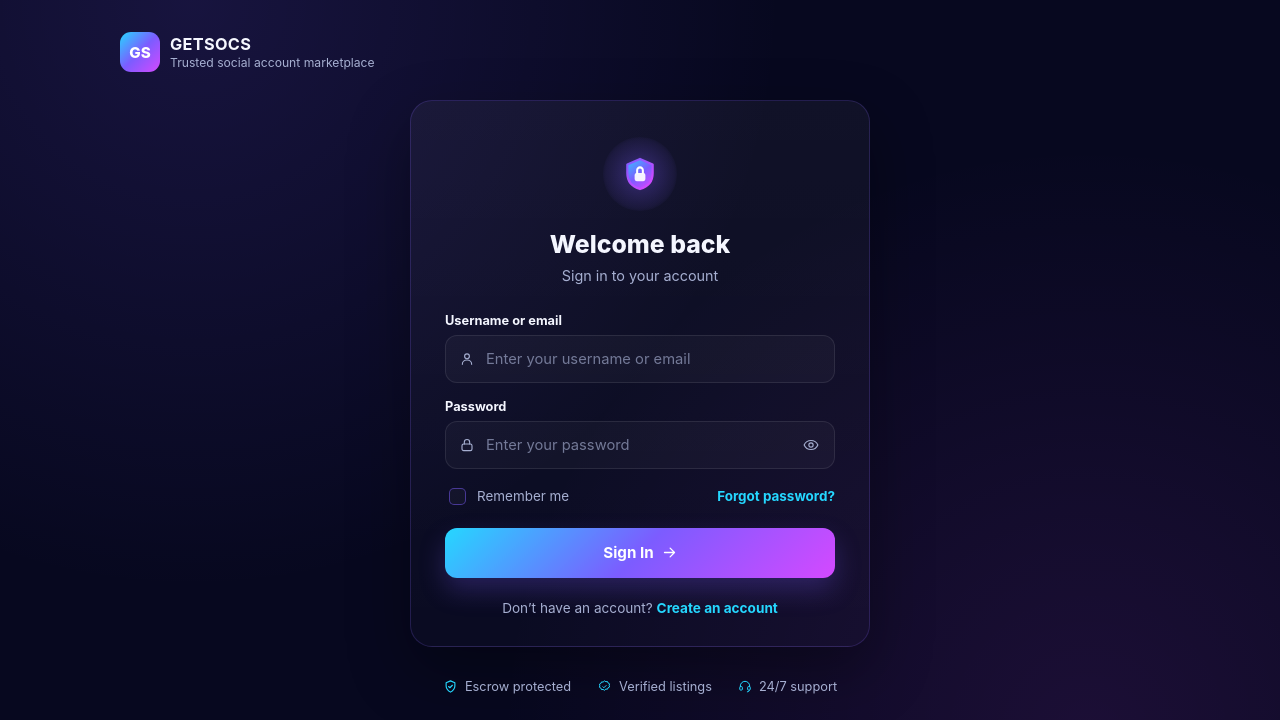
Test case: Login › submits username/password and surfaces an API failure
This screenshot has width=1280, height=720.
Step 1. Type "alice" into the field with placeholder "Enter your username or email" → (640, 359), box [445,335,835,383]
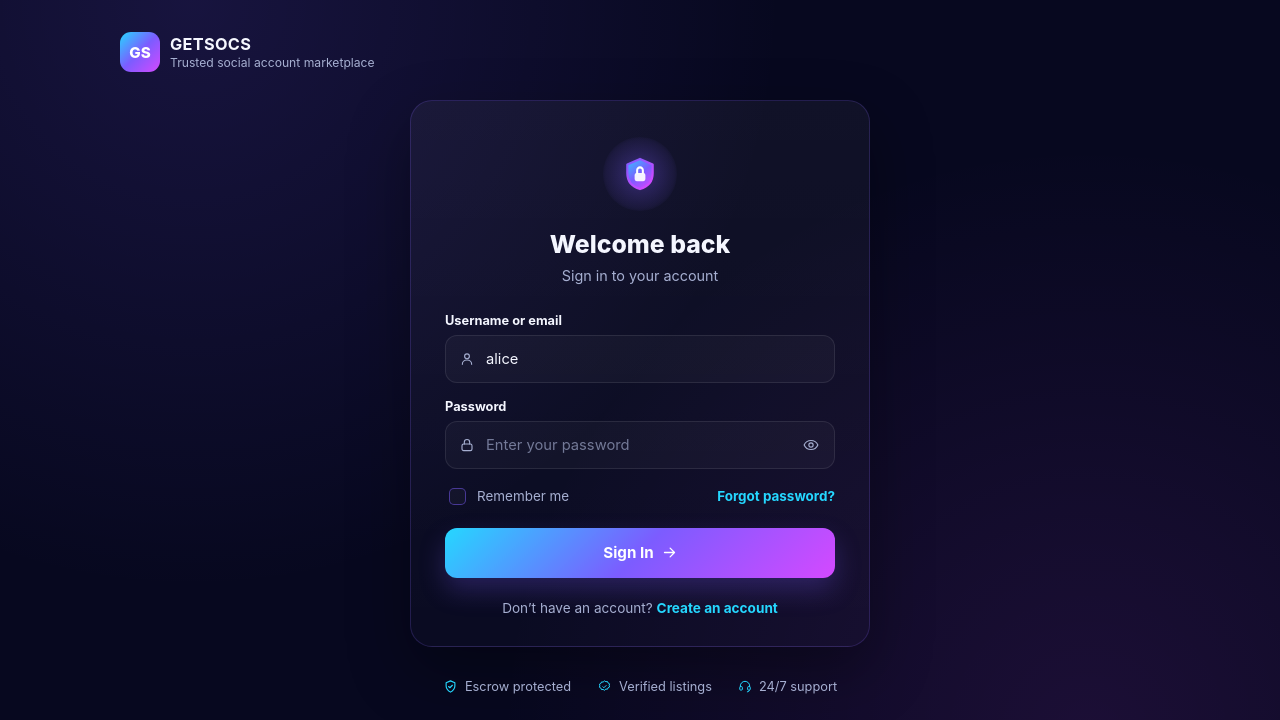
Step 2. Type "wrong" into the password field with placeholder "Enter your password" → (640, 445), box [445,421,835,469]
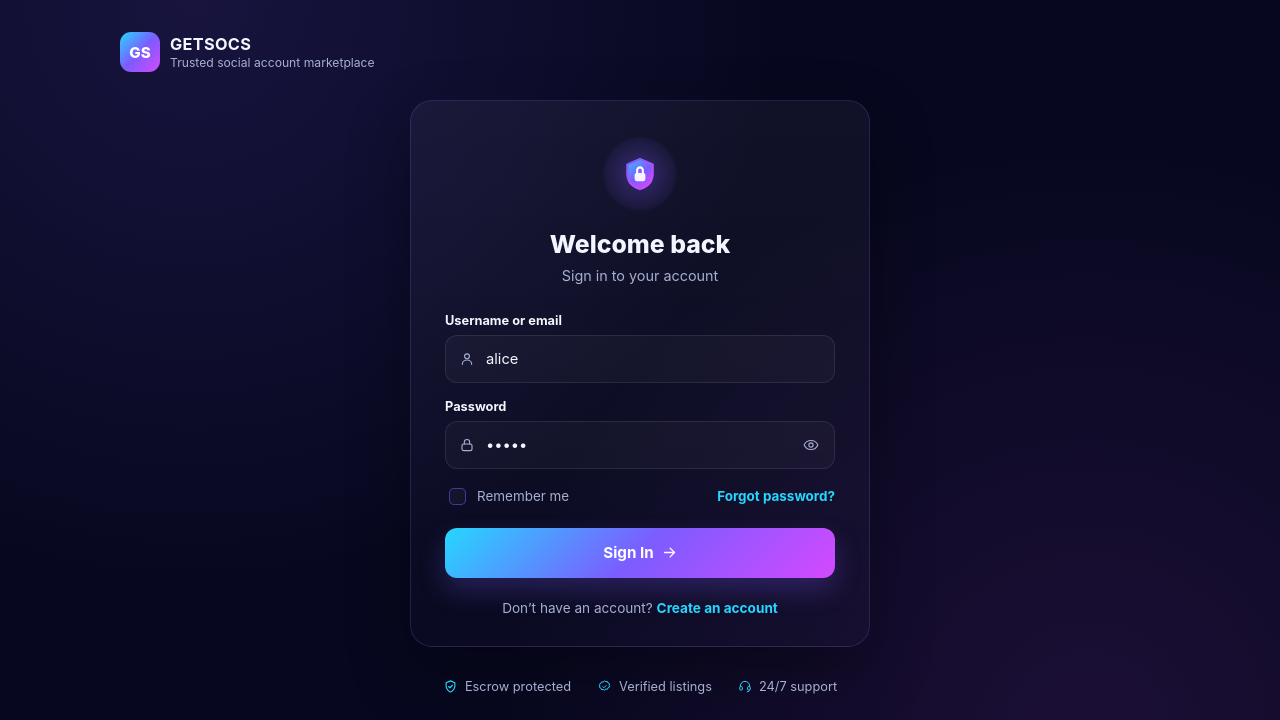
Step 3. Click the button "Sign In" → (640, 553), box [445,528,835,578]
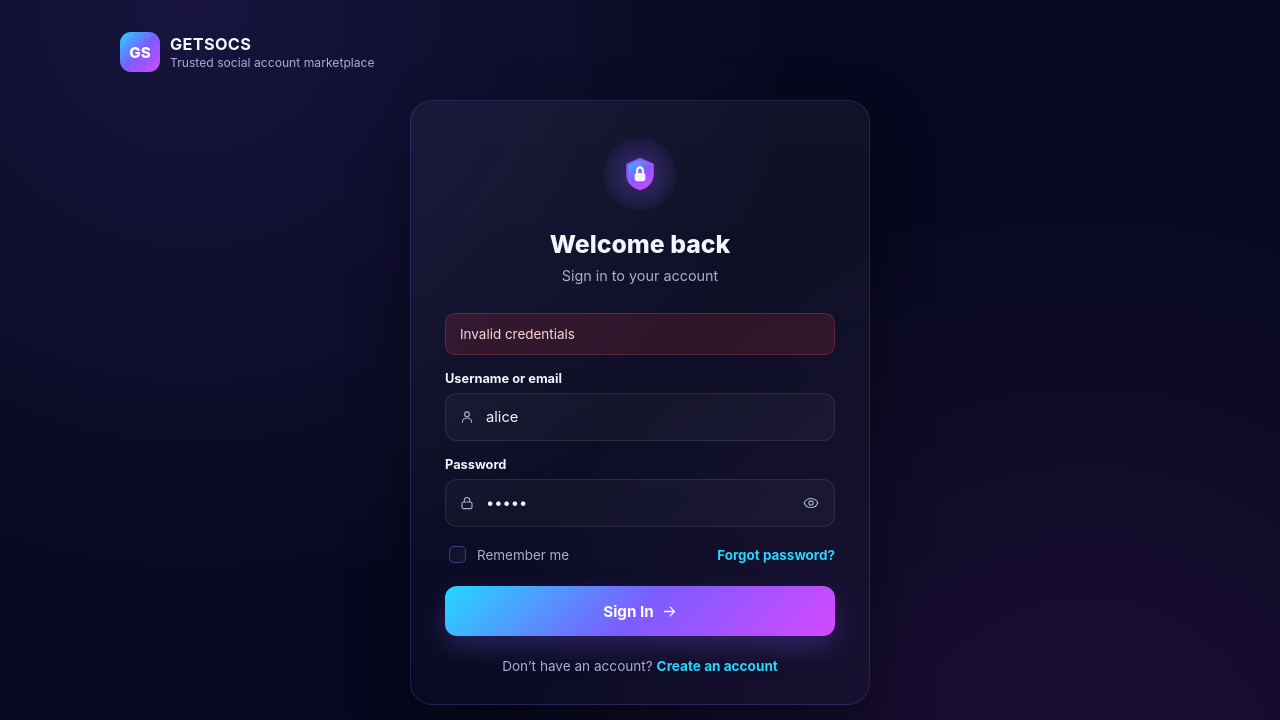
Result: the text "Invalid credentials" is shown at [445,313,835,355]
